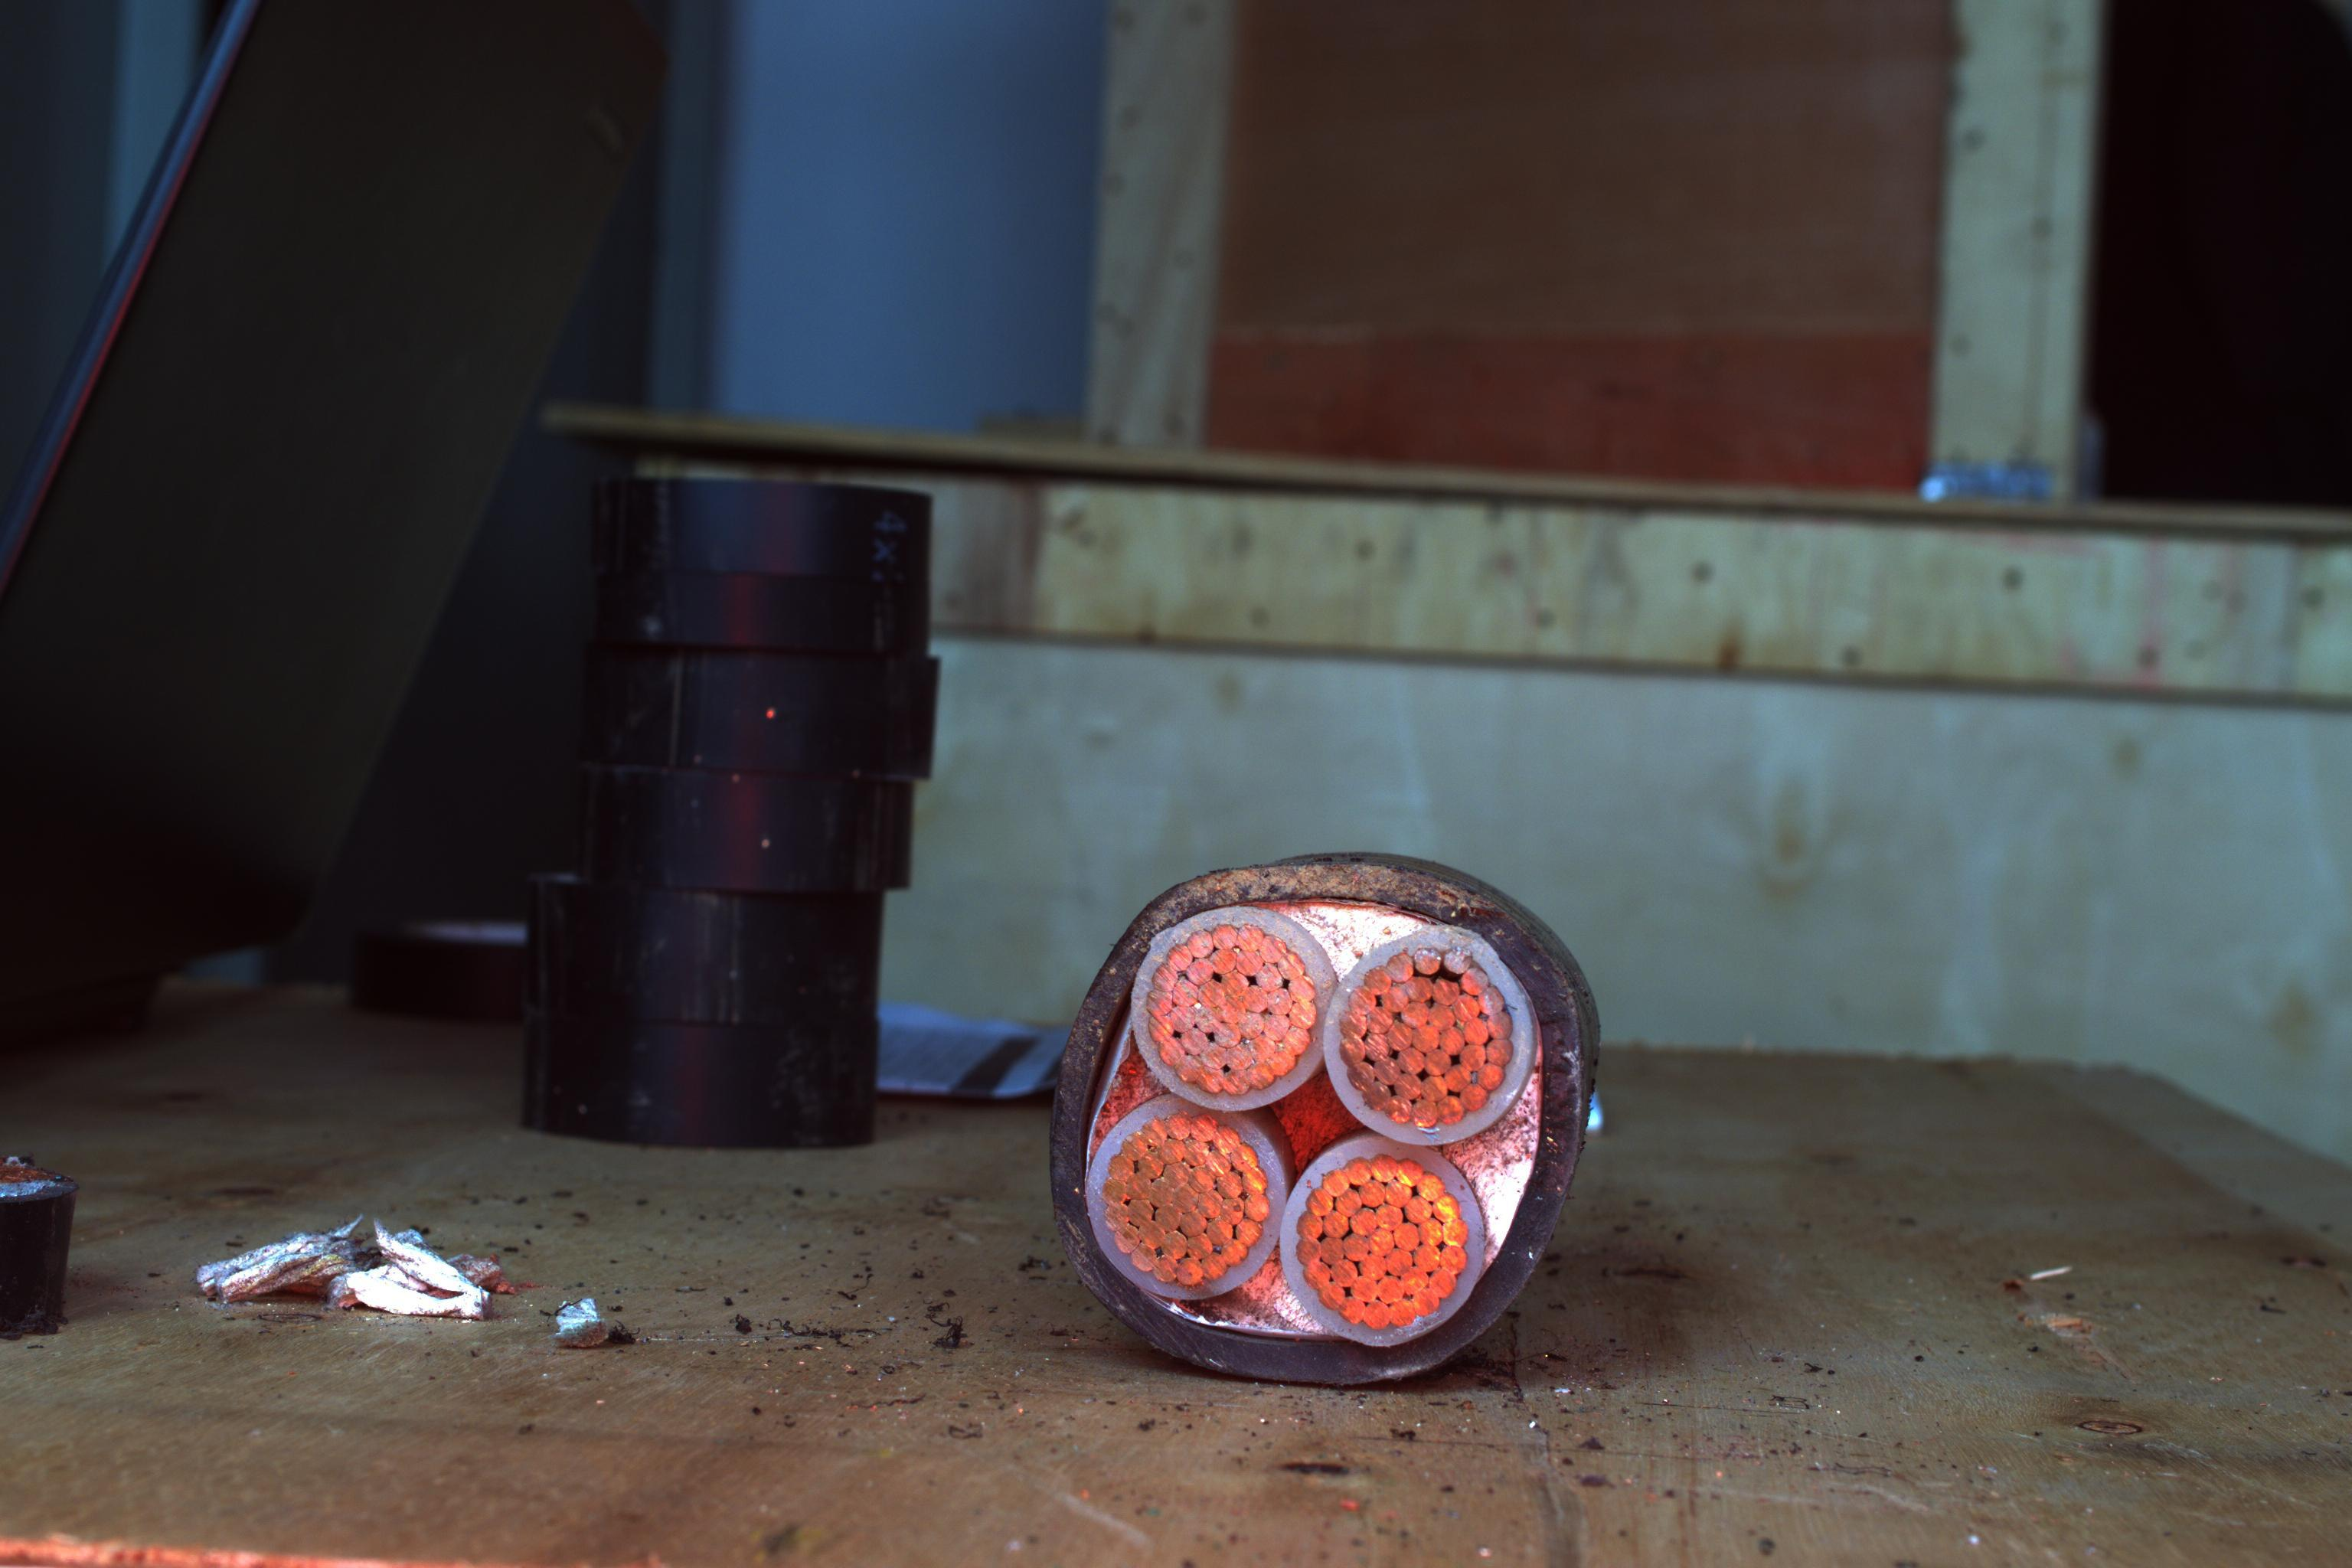YJV_0.6_1kV_4x240: (1029, 863, 1582, 1386)
